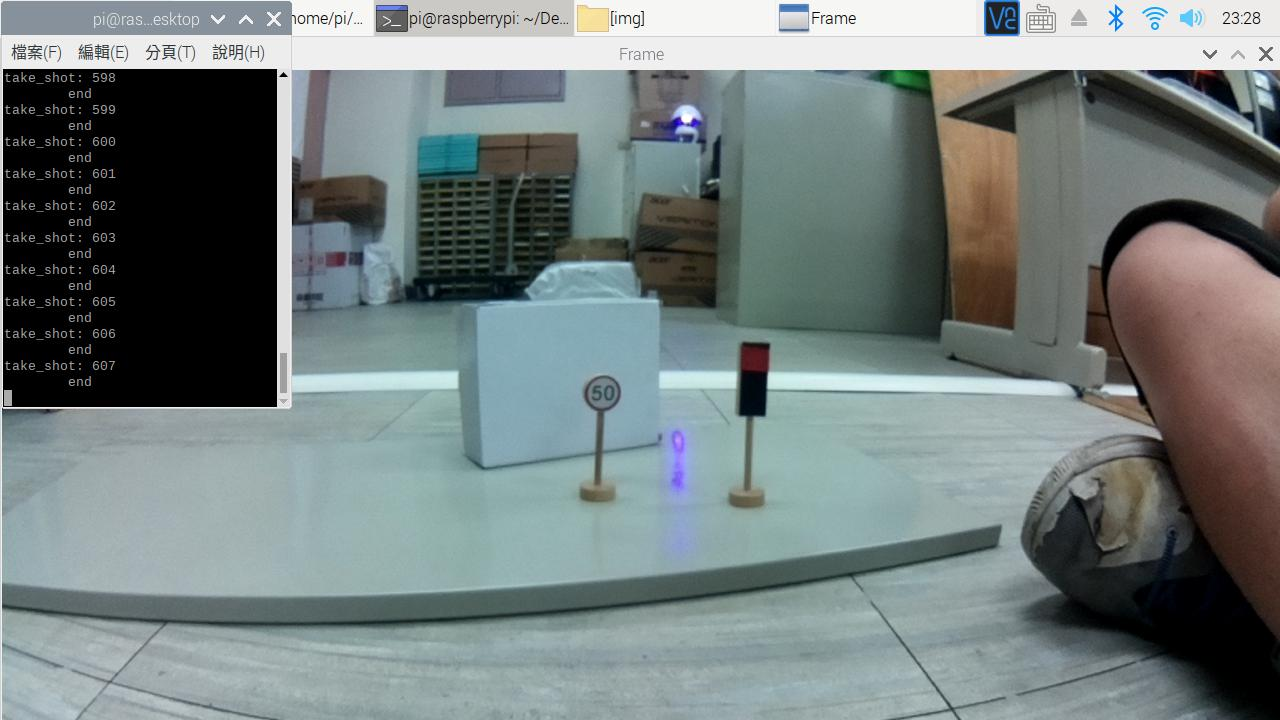Red: (722, 335, 777, 424)
Speed50: (579, 365, 625, 416)
